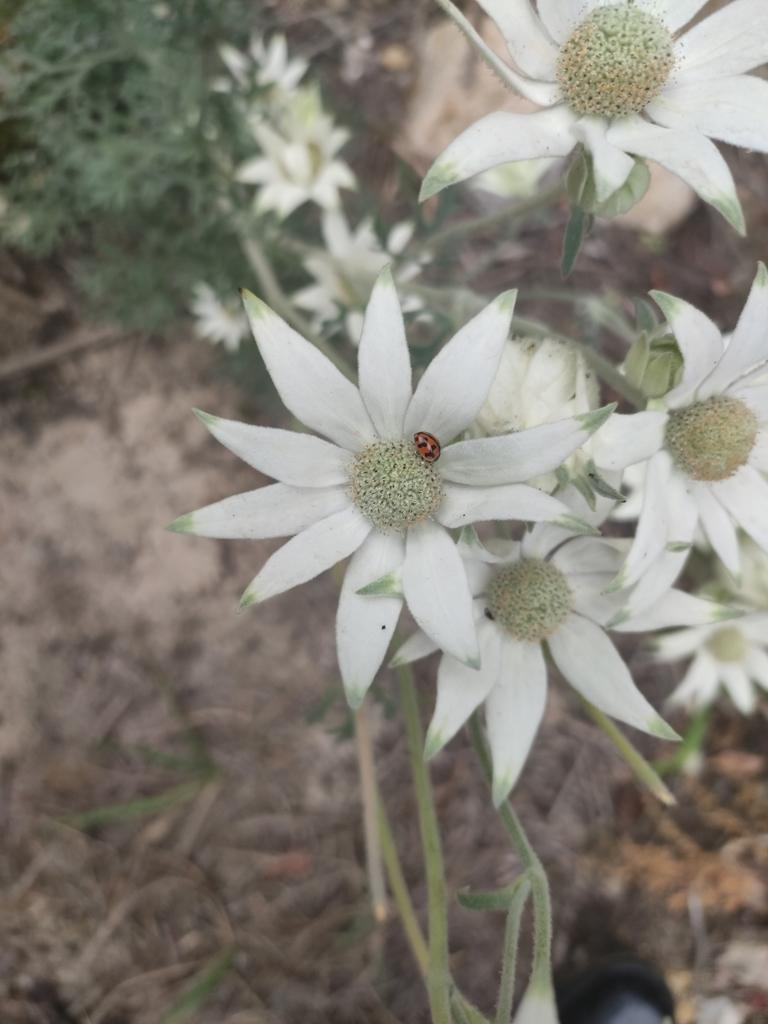ladybug: (411, 431, 444, 465)
